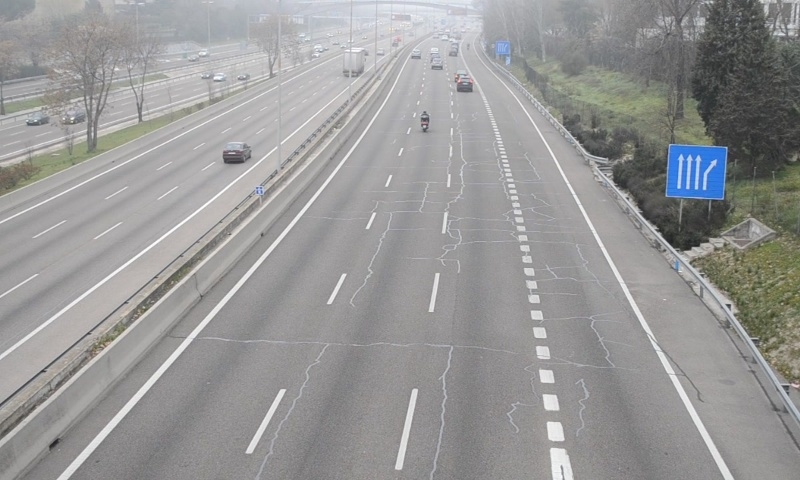car: (456, 72, 473, 91)
motorcycle: (420, 110, 430, 134)
